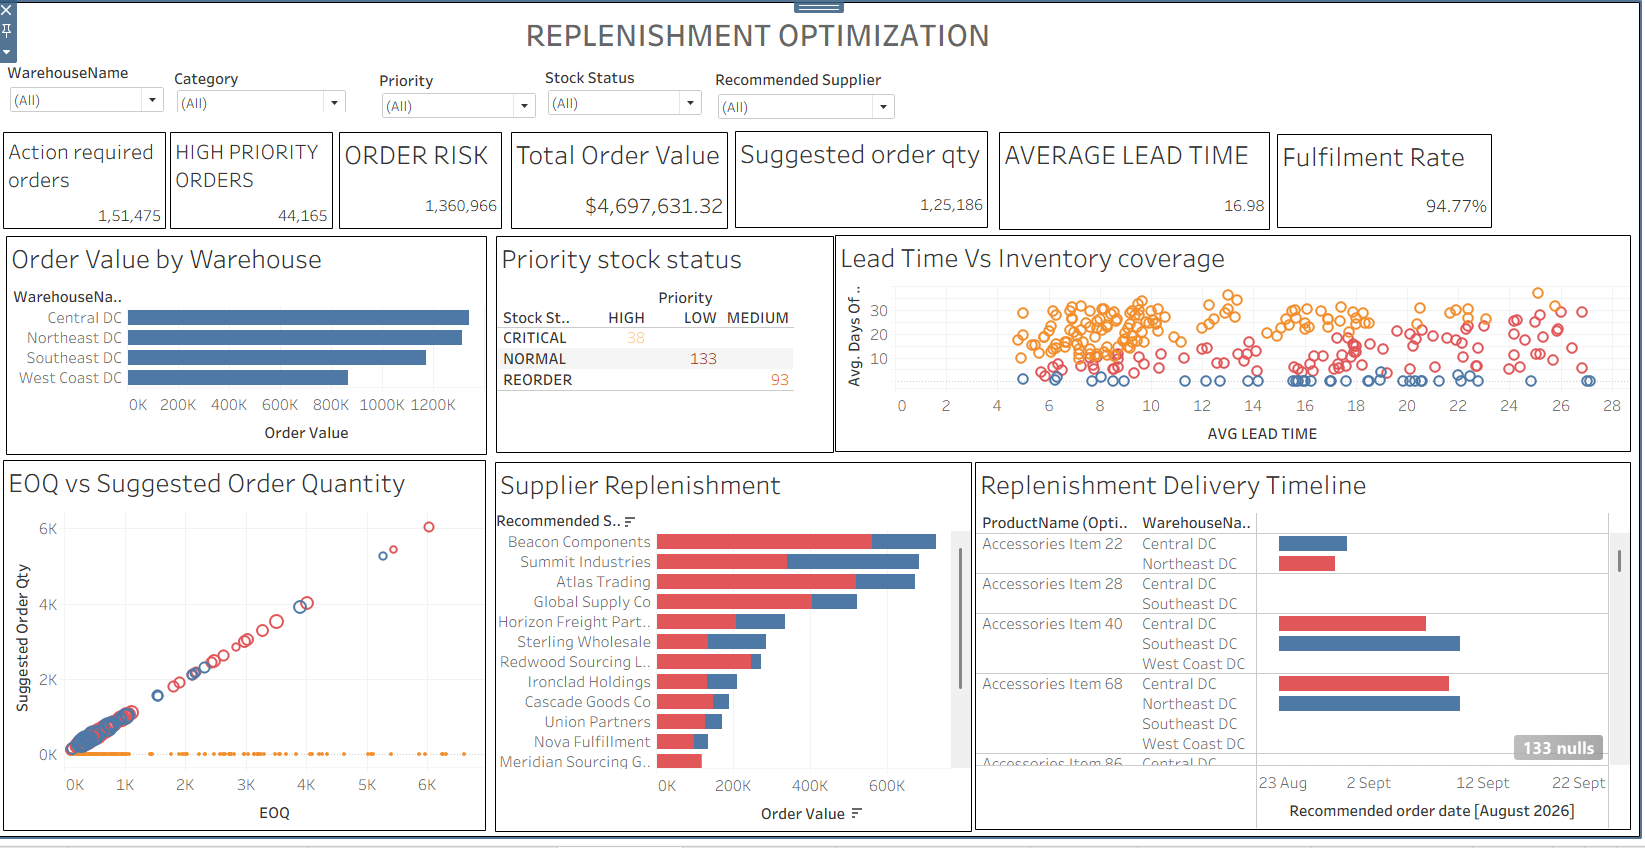

The page's visual inventory and layout, read from the dashboard file:
{"tool":"tableau","page":{"name":"Dashboard 3","canvas":[1000,1000],"units":"permille","ordinal":2},"visuals":[{"type":"text","box":[320.5,22.3,296.9,49.4]},{"type":"worksheet","title":"Suggested order qty","mark":"Automatic","box":[449,161,152.7,114]},{"type":"worksheet","title":"ACTION REQUIRED","mark":"Automatic","box":[7.2,162.2,98.4,114]},{"type":"worksheet","title":"HIGH PRIORITY ORDERS","mark":"Automatic","box":[108,162.2,98.4,114]},{"type":"worksheet","title":"ORDER RISK","mark":"Automatic","box":[210,162.2,98.4,114]},{"type":"worksheet","title":"exec-totalordervalue","mark":"Automatic","box":[313.8,162.2,131,114]},{"type":"worksheet","title":"AVERAGE LEAD TIME ","mark":"Automatic","box":[608.3,162.2,163.6,115.2]},{"type":"worksheet","title":"Fulfillment Rate","mark":"Automatic","box":[776.1,164.5,129.8,110.5]},{"type":"worksheet","title":"Lead Time Vs Inventory coverage","mark":"Automatic","rows":["DaysOfInventory"],"cols":["Calculation_0453590118195201"],"box":[509.4,283.2,480.4,255]},{"type":"worksheet","title":"Order value warehouse","mark":"Automatic","rows":["WarehouseName (Optimization!Data)"],"cols":["ORDER VALUE"],"box":[9,284.4,290.2,257.3]},{"type":"worksheet","title":"Priority stock status","mark":"Automatic","rows":["StockStatus"],"cols":["Priority"],"box":[304.6,284.4,204.1,255]},{"type":"worksheet","title":"EOQ vs Suggested Order Quantity ","mark":"Automatic","rows":["SuggestedOrderQty"],"cols":["EOQ"],"box":[7.2,547.6,291.4,436]},{"type":"worksheet","title":"Supplier Replenishment","mark":"Automatic","rows":["Recommended Supplier"],"cols":["ORDER VALUE"],"box":[304.2,549.9,287.9,434.8]},{"type":"worksheet","title":"Replenishment Delivery Timeline","mark":"GanttBar","rows":["ProductName (Optimization!Data)","WarehouseName (Optimization!Data)"],"cols":["Recommended order date"],"box":[593.8,549.9,395.9,432.4]}]}

Visuals, with their boxes on the dashboard's canvas, which has no fixed pixel size, in thousandths of its width and height (x1, y1, x2, y2). These are canvas units, not pixel positions in the 1645x848 screenshot, which may show the page scaled, cropped or inside an application window:
text: locate(320, 22, 617, 72)
"Suggested order qty" worksheet: locate(449, 161, 602, 275)
"ACTION REQUIRED" worksheet: locate(7, 162, 106, 276)
"HIGH PRIORITY ORDERS" worksheet: locate(108, 162, 206, 276)
"ORDER RISK" worksheet: locate(210, 162, 308, 276)
"exec-totalordervalue" worksheet: locate(314, 162, 445, 276)
"AVERAGE LEAD TIME " worksheet: locate(608, 162, 772, 277)
"Fulfillment Rate" worksheet: locate(776, 164, 906, 275)
"Lead Time Vs Inventory coverage" worksheet: locate(509, 283, 990, 538)
"Order value warehouse" worksheet: locate(9, 284, 299, 542)
"Priority stock status" worksheet: locate(305, 284, 509, 539)
"EOQ vs Suggested Order Quantity " worksheet: locate(7, 548, 299, 984)
"Supplier Replenishment" worksheet: locate(304, 550, 592, 985)
"Replenishment Delivery Timeline" worksheet (GanttBar marks): locate(594, 550, 990, 982)
